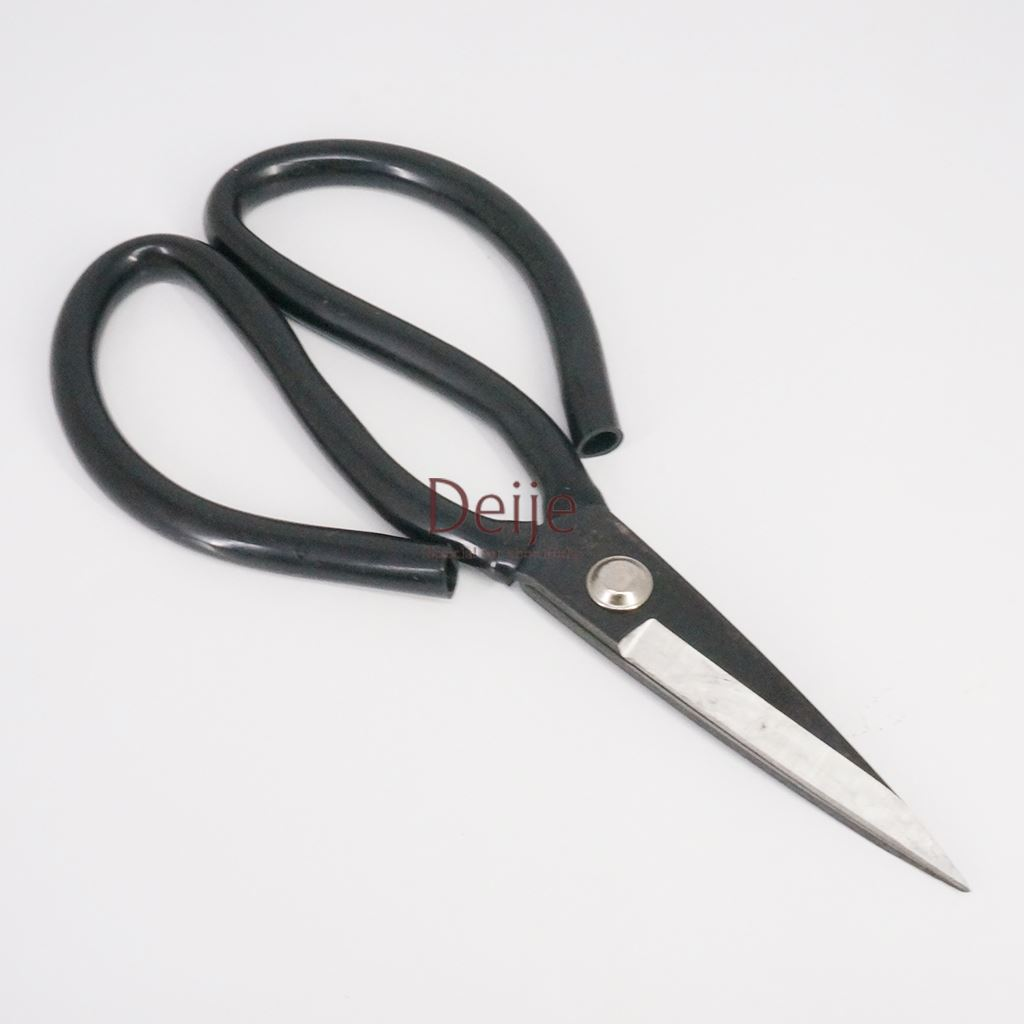scissors: (49, 134, 997, 897)
